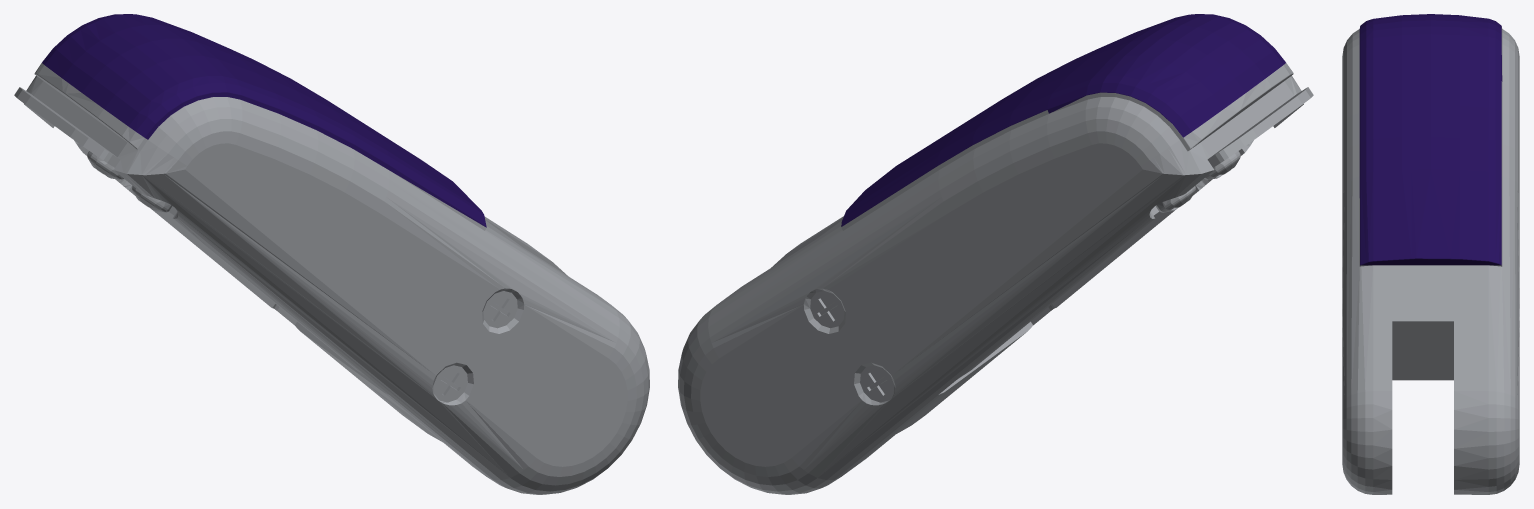
Rendered from dist_link.glb.
3 views of the same model, side by side, from view 1: azimuth 30°, elevation 25°; view 2: azimuth 150°, elevation 25°; view 3: azimuth 270°, elevation 25° (orthographic). The views are drawn at different scales.
Visible parts, largest first — view 1: dist_link, dist_link_mat; view 2: dist_link, dist_link_mat; view 3: dist_link, dist_link_mat.
Part boxes in pixels (bbox=[...]): dist_link: bbox=[14, 63, 649, 494]; dist_link_mat: bbox=[42, 14, 486, 227]; dist_link: bbox=[678, 63, 1313, 494]; dist_link_mat: bbox=[841, 14, 1285, 226]; dist_link: bbox=[1342, 26, 1519, 494]; dist_link_mat: bbox=[1359, 14, 1502, 265].
Bounding box in the file's own units: 0.0572 × 0.0498 × 0.023.
